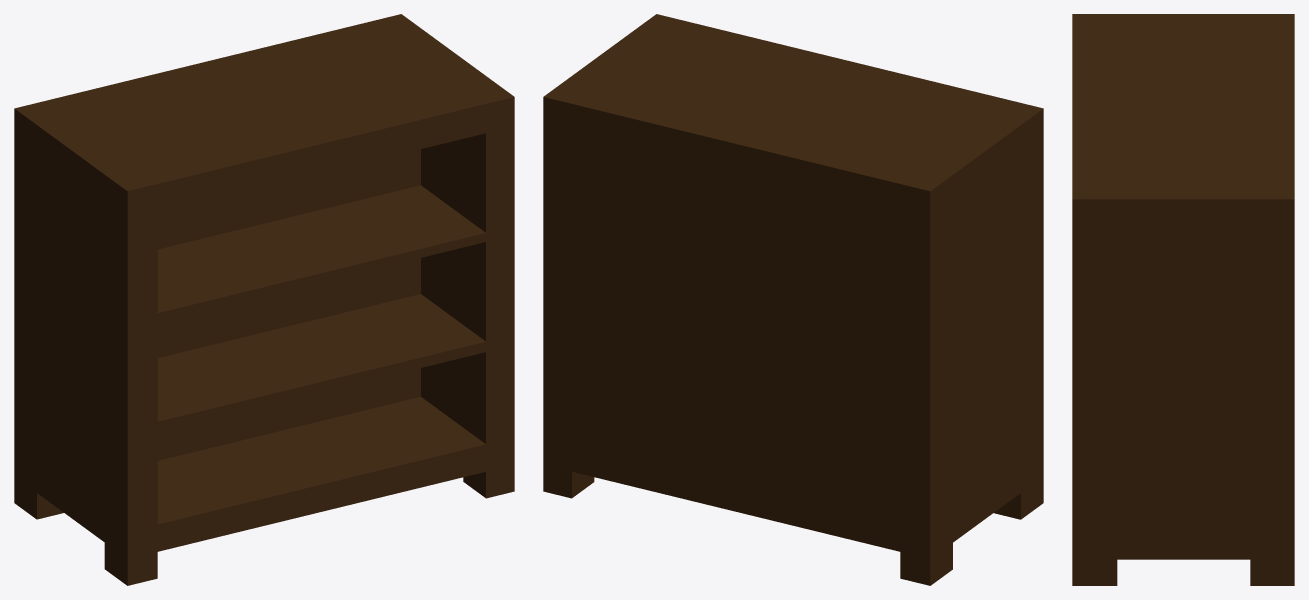
File: bookshelf.fbx
3 renders of one model, left to right at view 1: azimuth 30°, elevation 25°; view 2: azimuth 150°, elevation 25°; view 3: azimuth 270°, elevation 25°, orthographic. The views are drawn at different scales.
Visible parts, largest first — view 1: pCube1; view 2: pCube1; view 3: pCube1.
Boxes of the visible parts, x1,y1,x2,y2 form: pCube1: (14,14,514,585); pCube1: (543,14,1043,585); pCube1: (1072,14,1294,585).
Bounding box in the file's own units: 6.68 × 6.51 × 3.38.
1 material, 1 textured.
